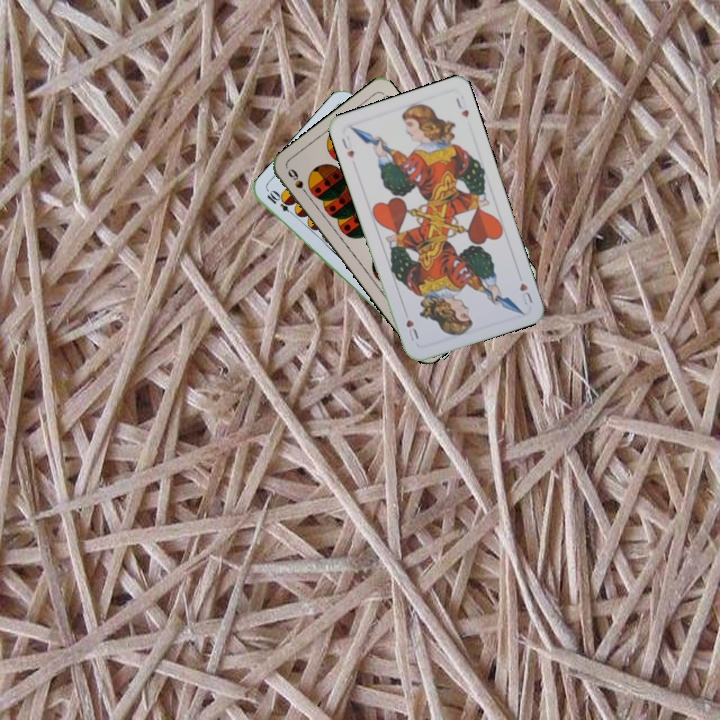E10: (263, 187, 299, 219)
HU: (337, 132, 357, 161), (516, 279, 535, 308)
S9: (283, 164, 312, 200)
